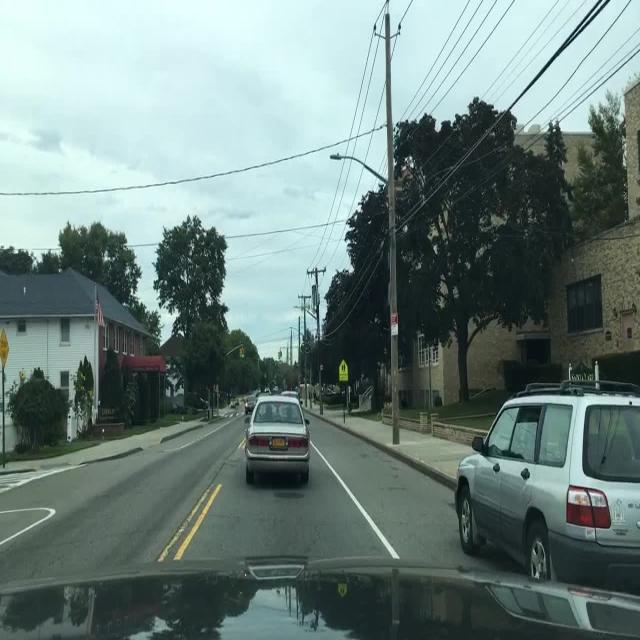car: (454, 374, 638, 597), (244, 391, 312, 486), (548, 426, 571, 464), (244, 391, 260, 415), (272, 386, 280, 393), (254, 388, 261, 396), (264, 388, 270, 394)
